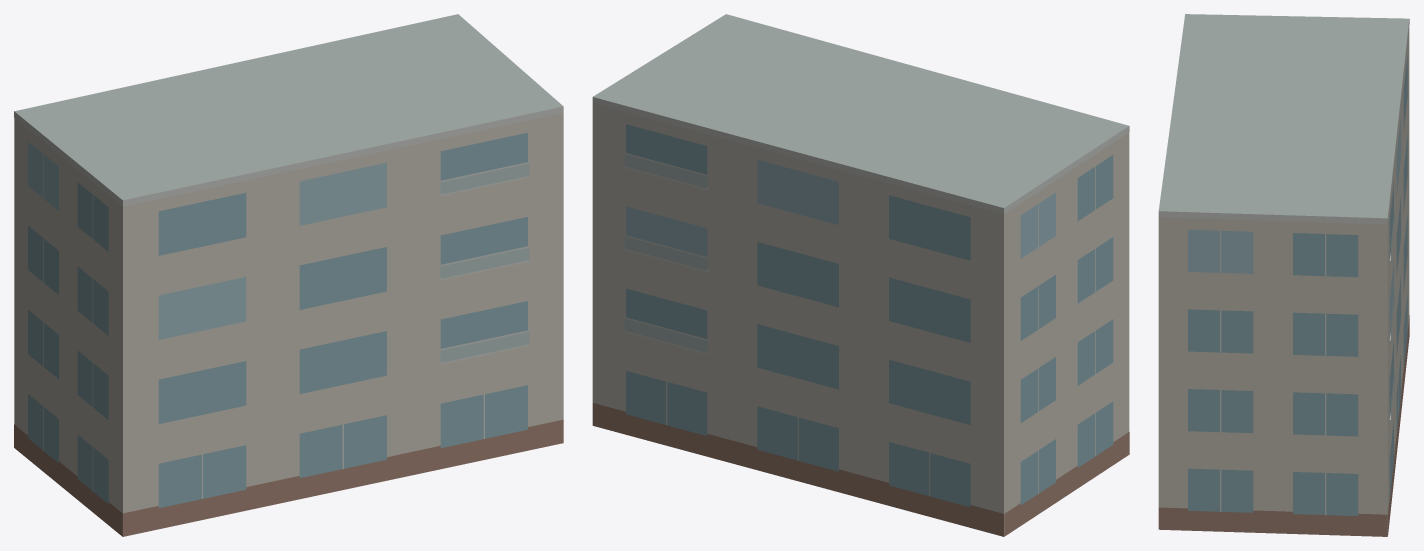
Rendered from survey-upis-32954863.glb.
The picture shows the model from 3 angles, left to right: view 1: azimuth 30°, elevation 25°; view 2: azimuth 150°, elevation 25°; view 3: azimuth 270°, elevation 25°; orthographic projection. The views are drawn at different scales.
Visible parts, largest first — view 1: survey-upis-32954863.tmp; view 2: survey-upis-32954863.tmp; view 3: survey-upis-32954863.tmp.
Part boxes in pixels (left/top/right/bottom): survey-upis-32954863.tmp: left=14, top=14, right=563, bottom=536; survey-upis-32954863.tmp: left=592, top=14, right=1129, bottom=536; survey-upis-32954863.tmp: left=1158, top=14, right=1409, bottom=536.
Bounding box in the file's own units: 17.62 × 12.8 × 9.14.
